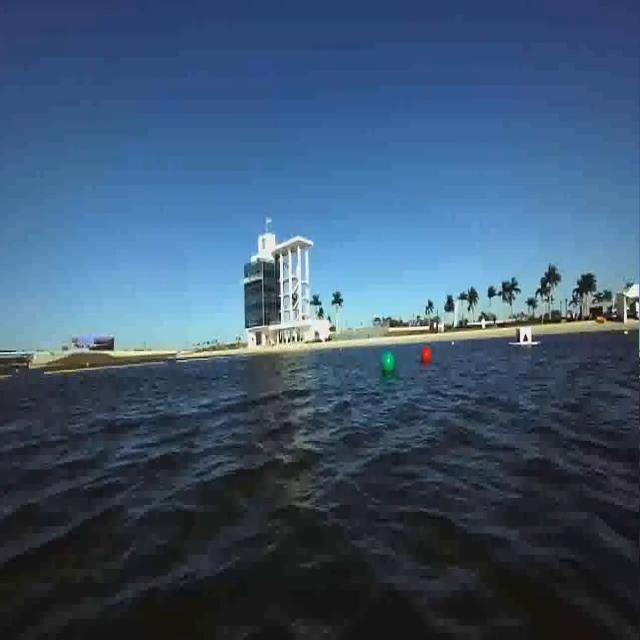green-buoy: (379, 350, 394, 376)
red-buoy: (422, 347, 432, 365)
